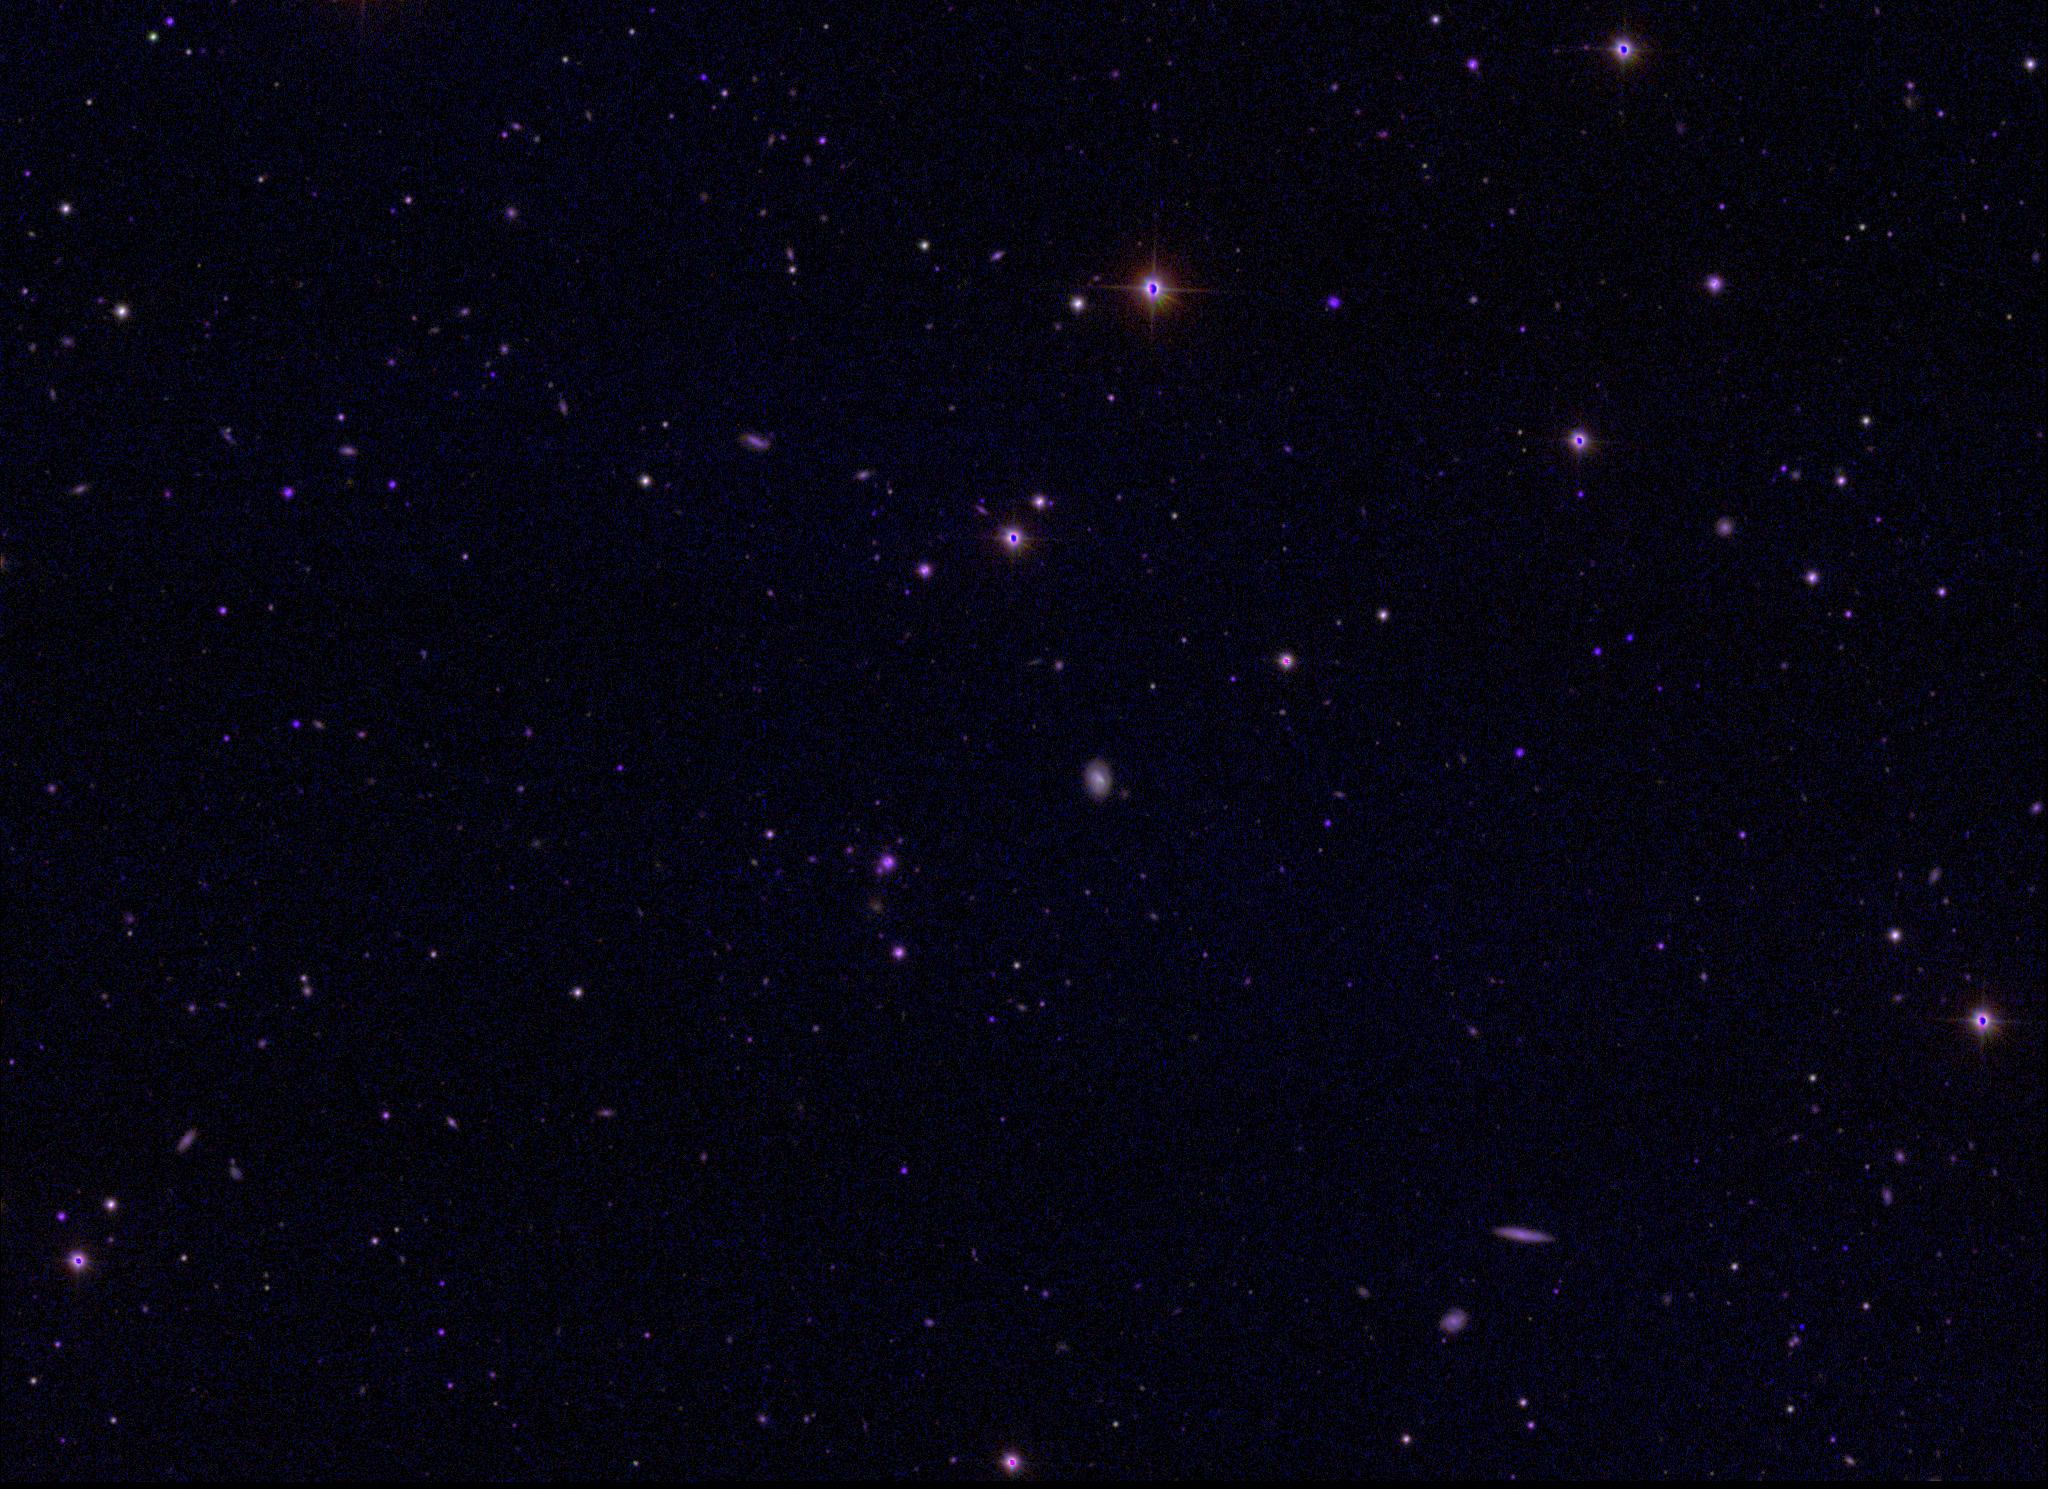L: (1795, 1320, 1809, 1335)
